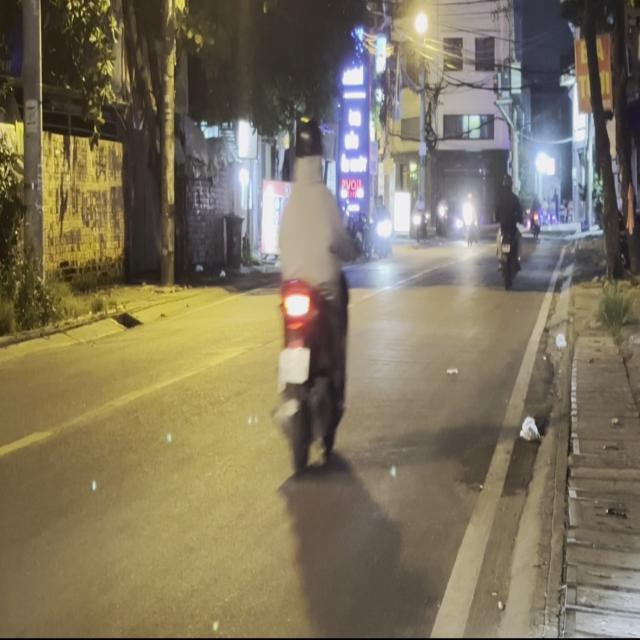helmet: (291, 119, 324, 179)
licenseplate: (270, 118, 354, 475)
nohelmet: (277, 346, 309, 382)
